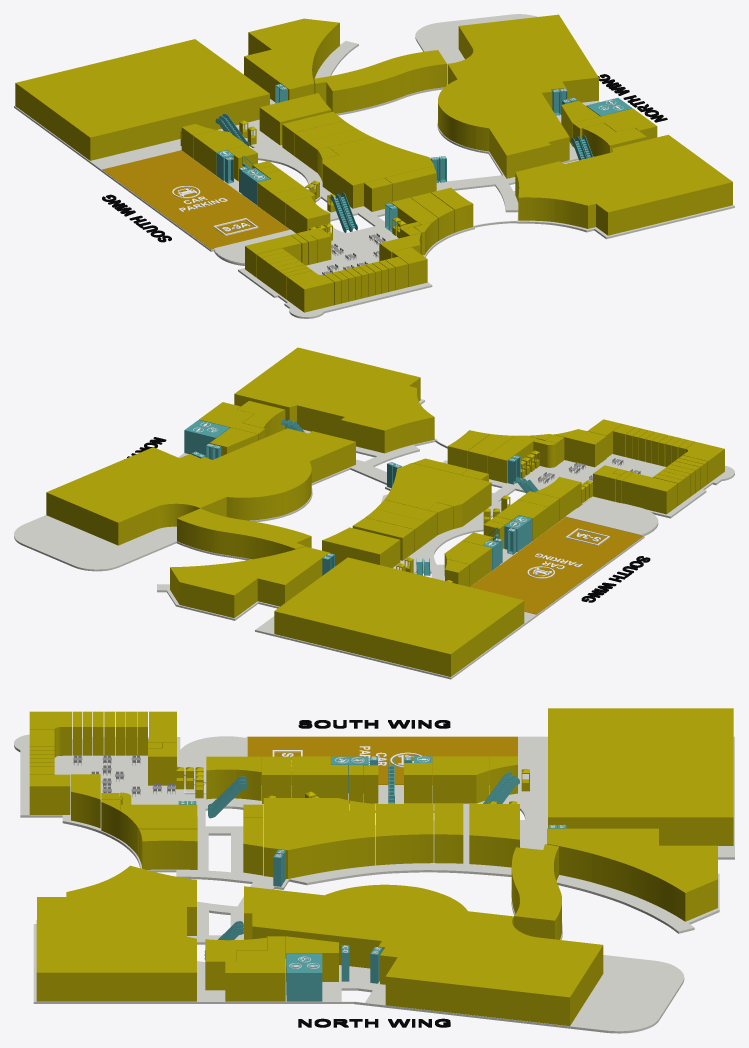
The model's file is floor-3.gltf.
The picture shows the model from 3 angles, top to bottom: view 1: azimuth 30°, elevation 25°; view 2: azimuth 150°, elevation 25°; view 3: azimuth 270°, elevation 25°; orthographic projection. The views are drawn at different scales.
Visible parts, largest first — view 1: Line027, Line023, Line1060, Line346, Line771, Line001, Line026, Line007, Line002, Line045, Line024, Line011 (+23 smaller); view 2: Line023, Line027, Line346, Line1060, Line771, Line001, Line026, Line007, Line002, Shape004, Rectangle337, Line034 (+20 smaller); view 3: Line023, Line346, Line027, Line1060, Line001, Line007, Line771, Line026, Line024, Line002, Line011, Shape005 (+28 smaller).
Part boxes in pixels (<box>): Line027: <box>15,39,269,160</box>; Line023: <box>438,14,598,178</box>; Line1060: <box>515,134,732,235</box>; Line346: <box>14,14,734,318</box>; Line771: <box>102,150,289,249</box>; Line001: <box>244,18,339,101</box>; Line026: <box>314,50,446,113</box>; Line007: <box>322,137,434,208</box>; Line002: <box>259,93,331,145</box>; Line045: <box>287,270,333,312</box>; Line024: <box>572,108,657,147</box>; Line011: <box>193,130,246,175</box>; Line023: <box>46,428,355,545</box>; Line027: <box>274,557,524,676</box>; Line346: <box>14,399,734,679</box>; Line1060: <box>234,347,434,453</box>; Line771: <box>470,517,643,614</box>; Line001: <box>170,546,329,618</box>; Line026: <box>177,508,311,559</box>; Line007: <box>384,463,491,528</box>; Line002: <box>322,527,400,568</box>; Shape004: <box>565,502,657,535</box>; Rectangle337: <box>622,472,677,514</box>; Line034: <box>554,429,606,467</box>; Line023: <box>244,884,603,1026</box>; Line346: <box>14,734,734,1033</box>; Line027: <box>548,708,733,845</box>; Line1060: <box>36,865,196,1001</box>; Line001: <box>547,828,717,921</box>; Line007: <box>263,798,375,878</box>; Line771: <box>247,736,517,784</box>; Line026: <box>511,844,561,939</box>; Line024: <box>225,936,285,1001</box>; Line002: <box>469,804,519,867</box>; Line011: <box>432,756,489,803</box>; Shape005: <box>139,829,197,869</box>.
Bounding box in the file's own units: 84.68 × 4.77 × 82.78.
